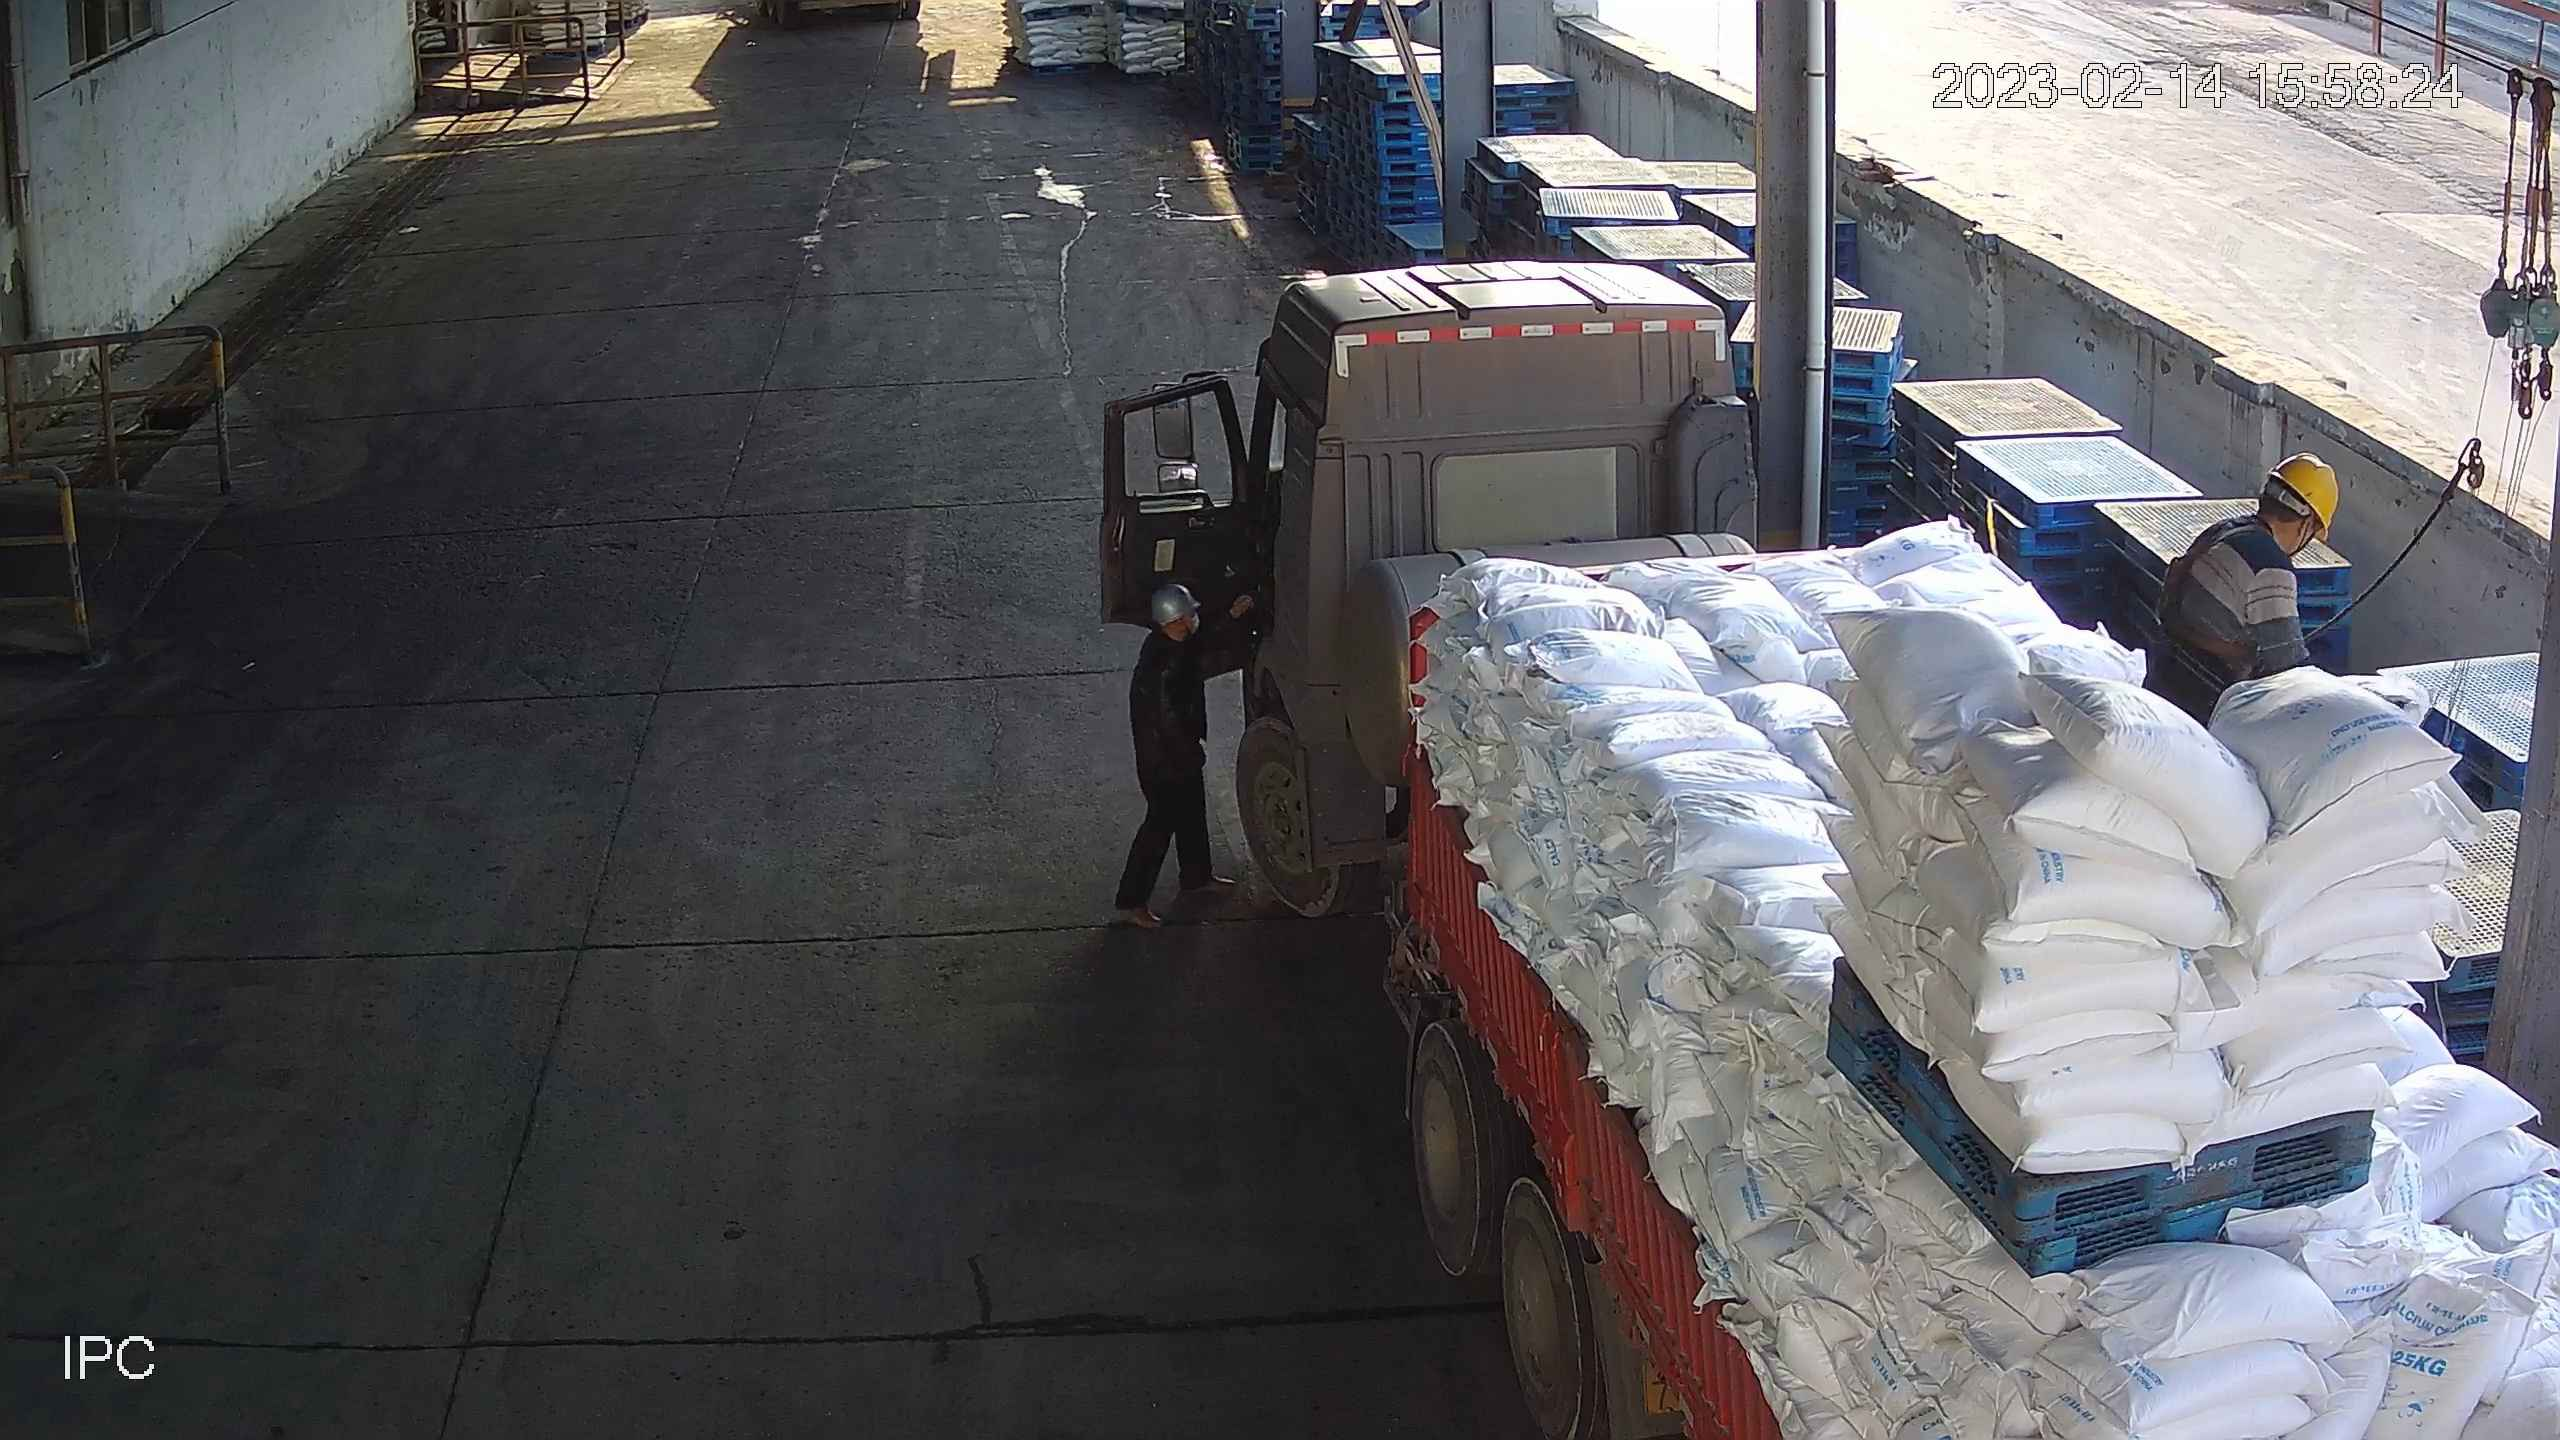belt: (2149, 518, 2297, 664)
head: (2196, 447, 2341, 590), (1139, 578, 1207, 686)
helmet: (2265, 450, 2341, 544), (1149, 579, 1201, 630)
people: (1111, 577, 1255, 931)
truck: (1101, 255, 2560, 1440)
